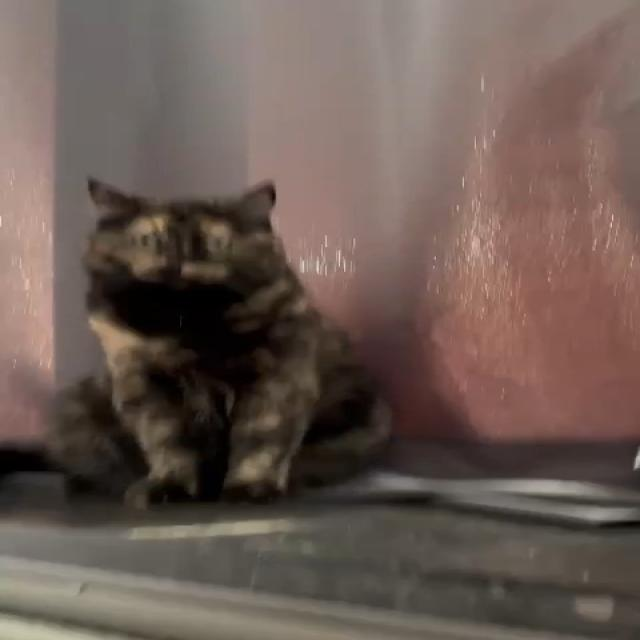authorized: (58, 175, 398, 510)
